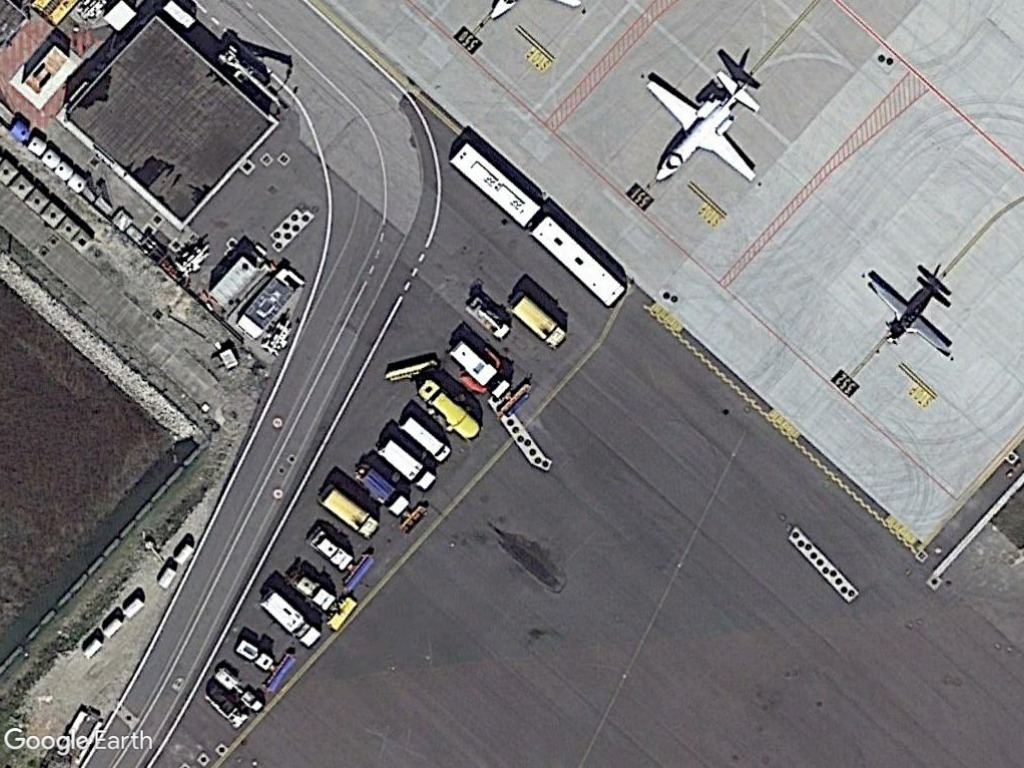bus: (523, 213, 630, 309), (440, 133, 544, 230)
chartered: (636, 65, 773, 196)
other: (416, 376, 483, 443), (445, 340, 512, 401), (353, 465, 415, 519)
trainer: (860, 261, 960, 363)
truck: (312, 481, 383, 541)
van: (504, 290, 568, 350), (374, 437, 438, 493), (393, 414, 457, 464)
